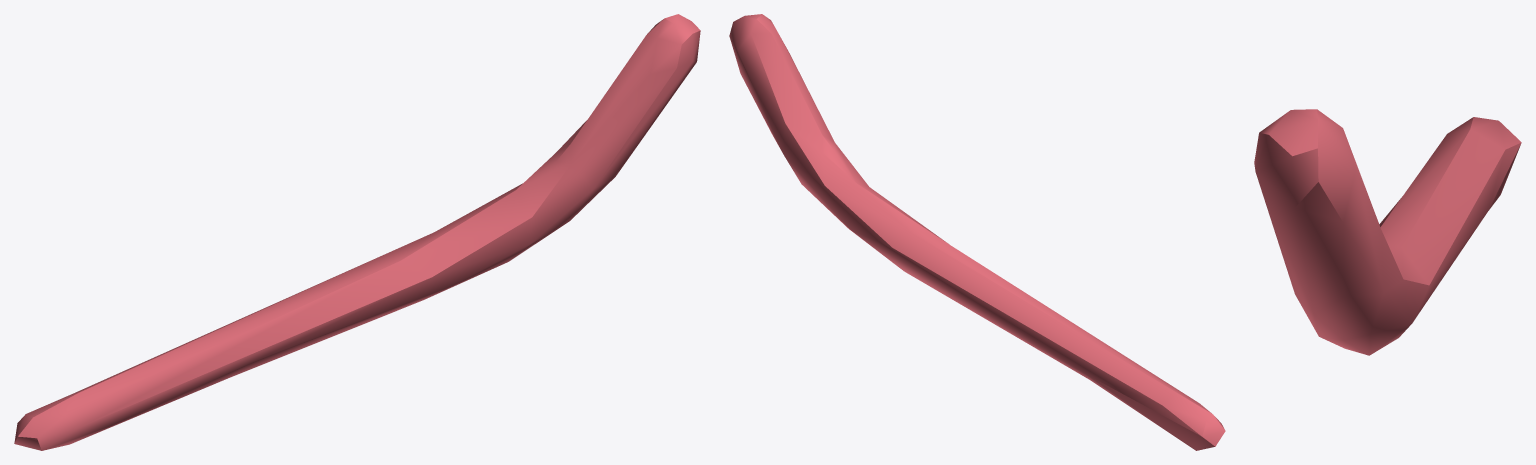
File: fma14816_fj3406.glb
3 renders of one model, left to right at view 1: azimuth 30°, elevation 25°; view 2: azimuth 150°, elevation 25°; view 3: azimuth 270°, elevation 25°, orthographic. The views are drawn at different scales.
Parts seen in each view (by area): view 1: FMA14816_FJ3406; view 2: FMA14816_FJ3406; view 3: FMA14816_FJ3406.
Boxes of the visible parts, x1,y1,x2,y2 form: FMA14816_FJ3406: (14, 14, 700, 450); FMA14816_FJ3406: (729, 14, 1225, 450); FMA14816_FJ3406: (1254, 109, 1521, 355).
Size of the model in its own units: 0.0142 by 0.00711 by 0.00307.
